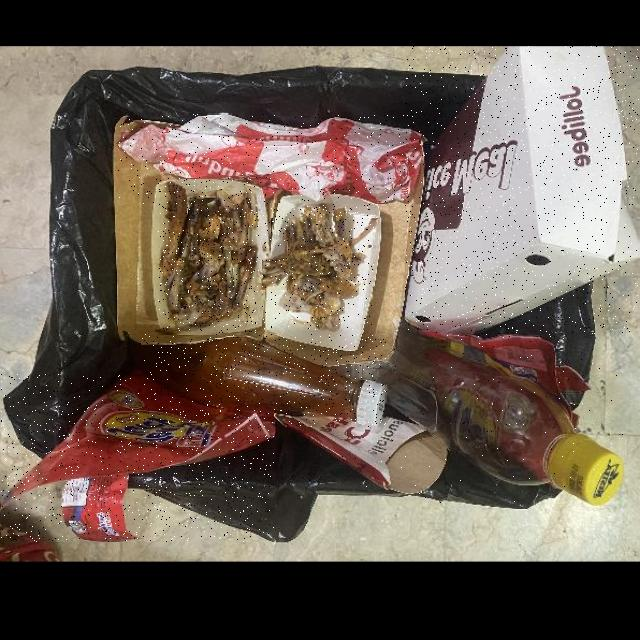biowaste: (158, 180, 259, 334), (263, 203, 374, 330)
glass: (142, 334, 386, 426)
paper: (406, 46, 639, 337), (117, 114, 421, 203)
plastic: (326, 326, 623, 502)
wrapper: (2, 374, 274, 541)
